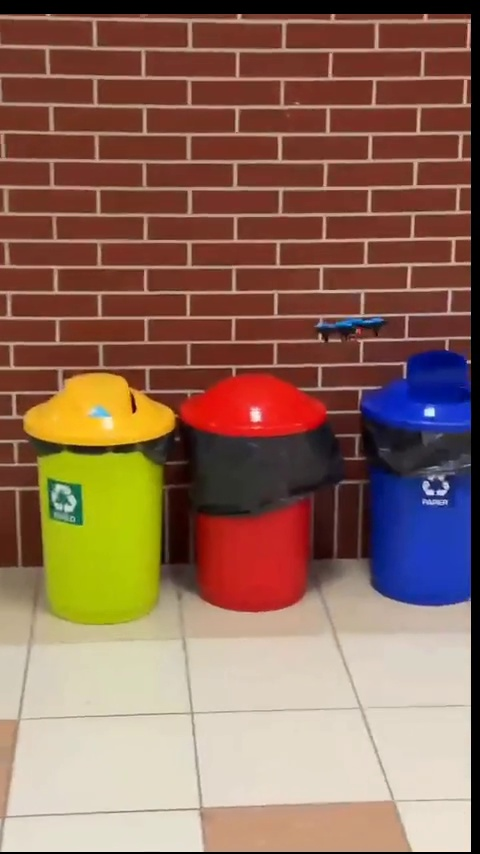drone: (319, 314, 389, 341)
